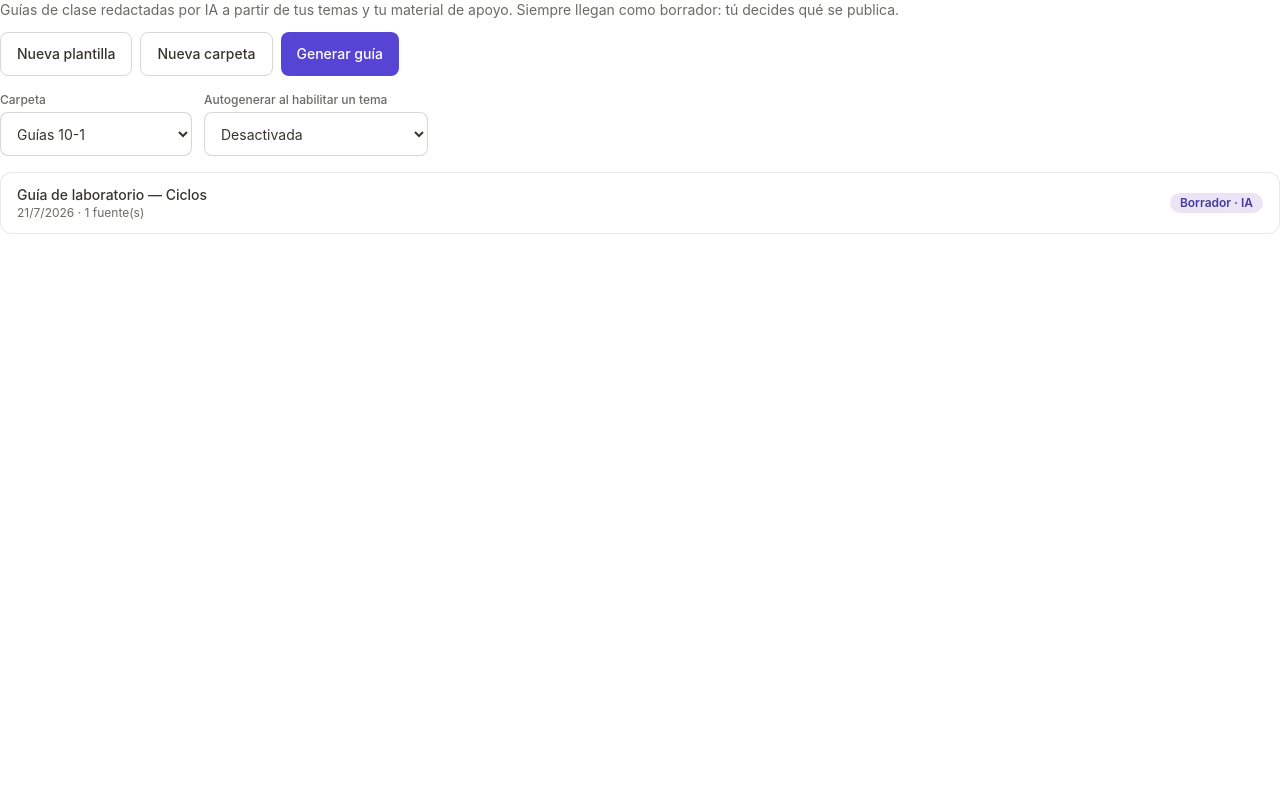
Test: GuidesTab › etiqueta un borrador como generado por IA y ofrece publicarlo
This screenshot has width=1280, height=800.
Expected: the text "Borrador · IA" is shown, [1170, 193, 1263, 213]
Click the button "Guía de laboratorio — Ciclos".
click(112, 194)  # box [0, 172, 1279, 234]
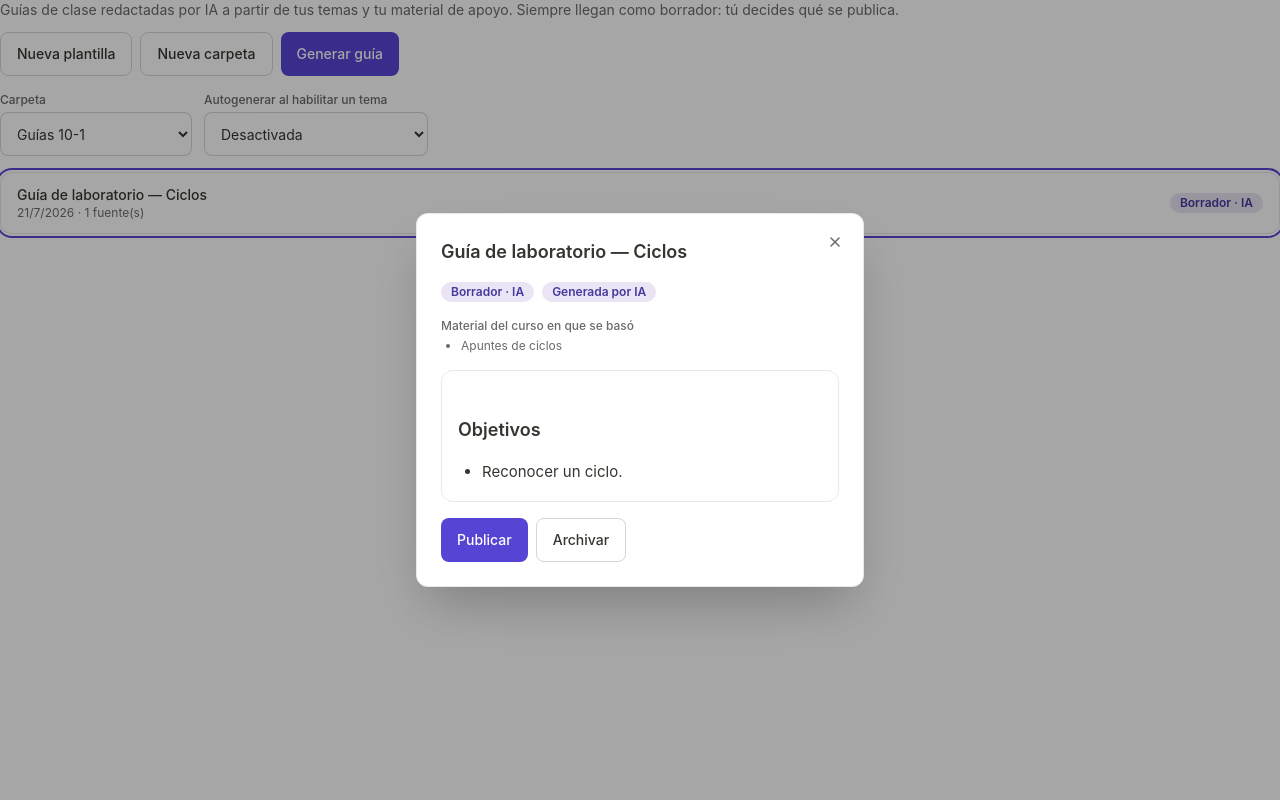
Expected: the button "Publicar" is shown, [441, 518, 528, 562]
Expected: the list item "Apuntes de ciclos" is shown, [461, 338, 562, 353]
Expected: the heading "Objetivos" is shown, [458, 419, 541, 440]
